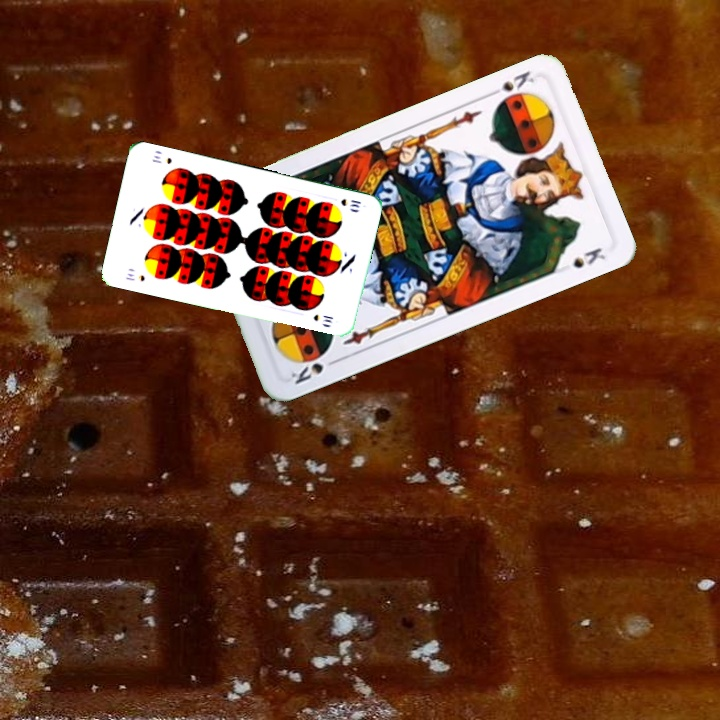S10: (337, 195, 364, 210), (122, 269, 147, 284)
SK: (483, 67, 537, 108), (286, 354, 342, 387)
